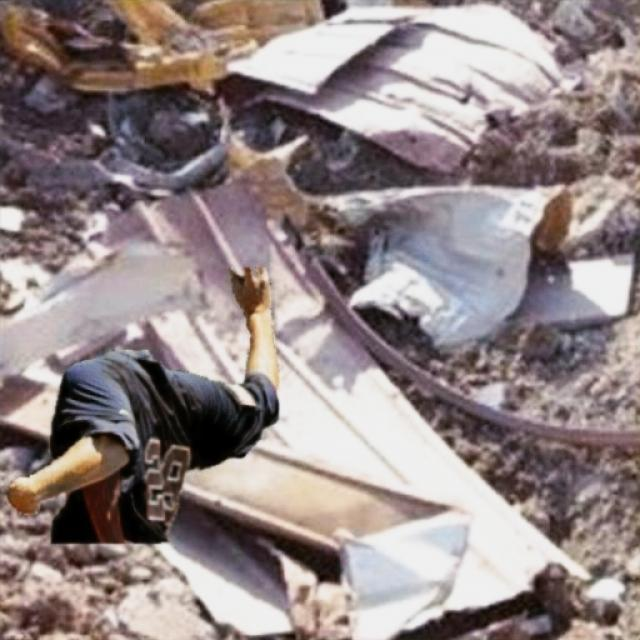Person in Rubble: (8, 268, 278, 542)
